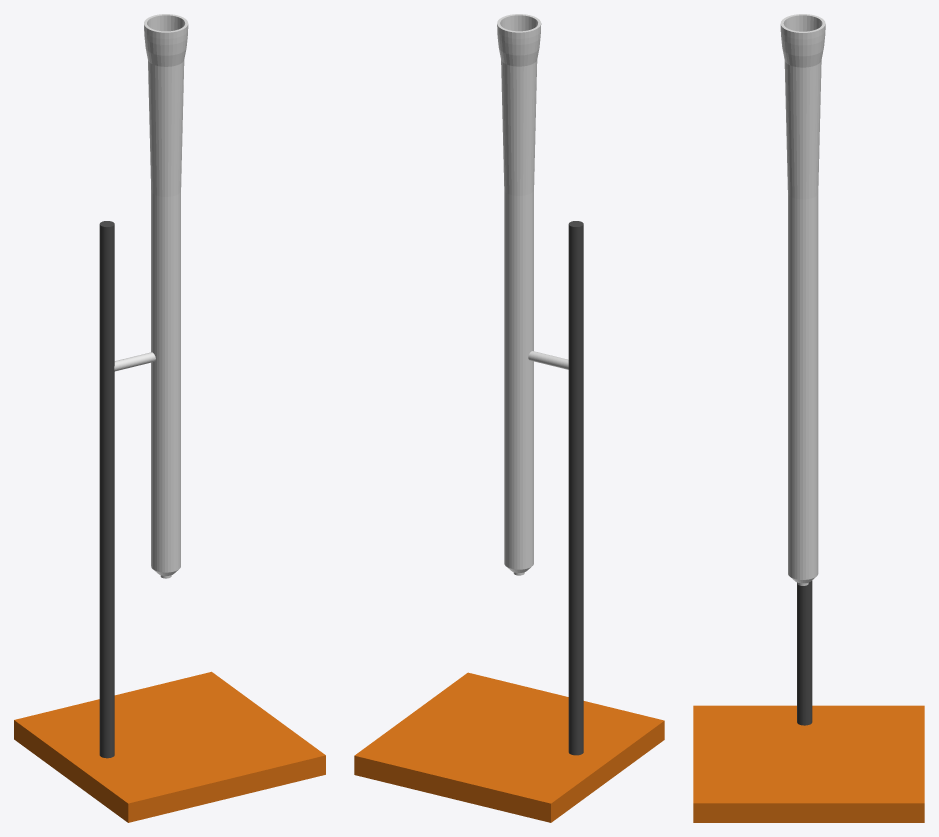
File: clampstand.fbx
The picture shows the model from 3 angles, left to right: view 1: azimuth 30°, elevation 25°; view 2: azimuth 150°, elevation 25°; view 3: azimuth 270°, elevation 25°; orthographic projection.
Visible parts, largest first — view 1: Cube, Cylinder.002, Cylinder; view 2: Cube, Cylinder.002, Cylinder; view 3: Cube, Cylinder.002, Cylinder.
Part boxes in pixels (<box>): Cube: <box>14,671,325,822</box>; Cylinder.002: <box>144,14,188,578</box>; Cylinder: <box>99,221,114,758</box>; Cube: <box>354,672,664,822</box>; Cylinder.002: <box>497,14,541,575</box>; Cylinder: <box>568,221,583,755</box>; Cube: <box>693,705,924,822</box>; Cylinder.002: <box>780,14,825,585</box>; Cylinder: <box>797,580,812,725</box>.
Size of the model in its own units: 333 by 1186 by 333.
